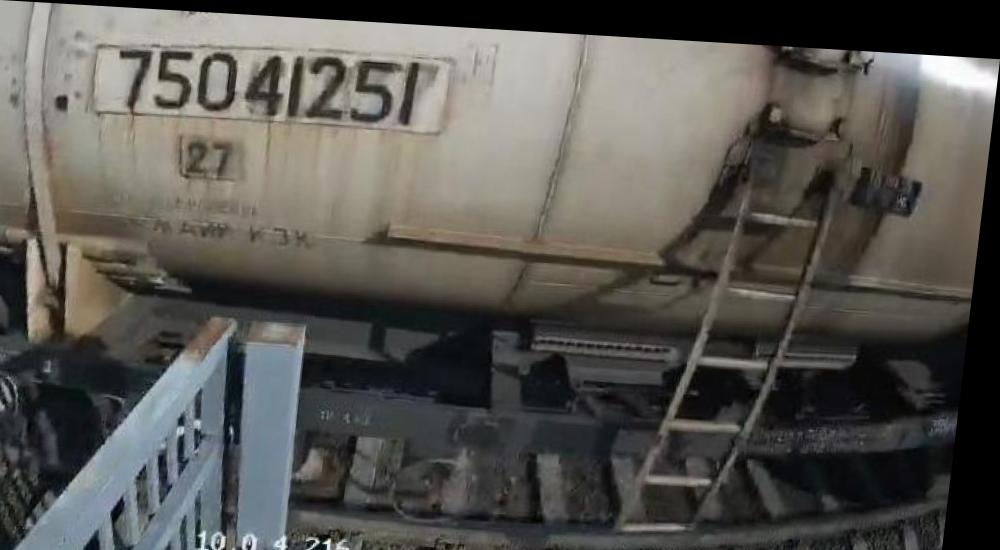Wagon-number: (109, 39, 430, 128)
